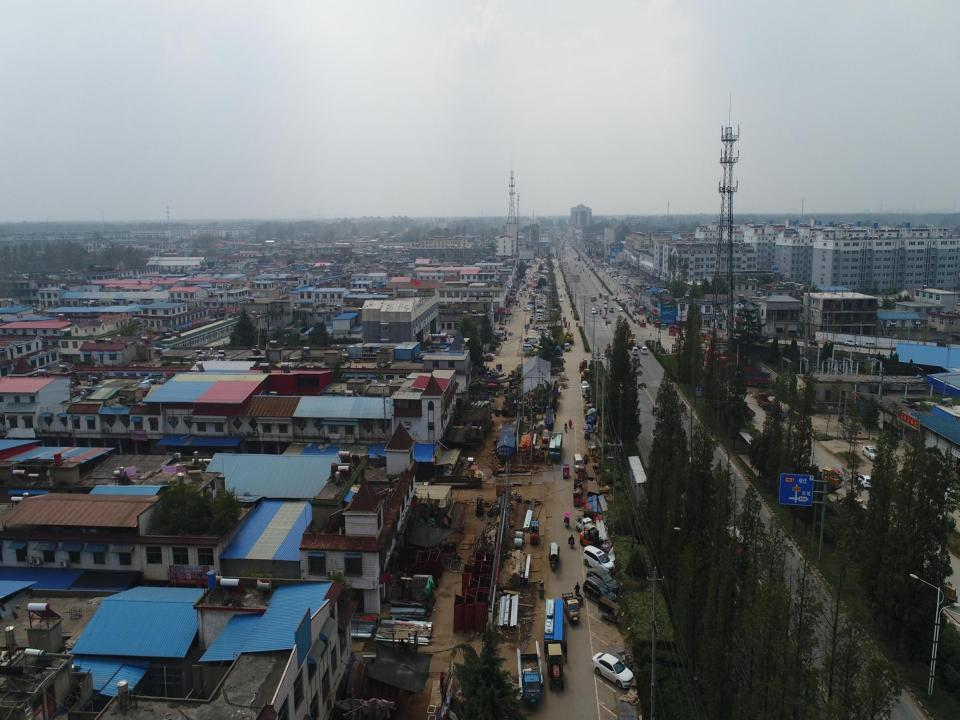bus: (603, 292, 611, 302)
car: (588, 649, 636, 689), (581, 575, 617, 607), (582, 544, 614, 574), (585, 566, 619, 594), (856, 472, 874, 490), (862, 444, 880, 462), (843, 339, 860, 349), (538, 327, 550, 336), (537, 334, 550, 342), (481, 354, 493, 362), (582, 386, 590, 398), (538, 329, 550, 337), (484, 353, 495, 361), (538, 331, 550, 338), (631, 346, 639, 356), (581, 380, 589, 389), (534, 316, 546, 322), (640, 346, 648, 355), (523, 306, 531, 312), (538, 313, 545, 319), (601, 312, 608, 318), (637, 341, 643, 348), (609, 306, 614, 313), (536, 313, 544, 317), (606, 318, 612, 323), (618, 306, 623, 312), (528, 304, 534, 308), (604, 300, 608, 305), (560, 297, 564, 301), (604, 304, 608, 308)
truck: (722, 363, 773, 389), (717, 354, 762, 382), (705, 348, 749, 372), (708, 350, 749, 374), (730, 369, 772, 388), (738, 398, 756, 423), (549, 429, 563, 461), (769, 400, 788, 422), (572, 516, 595, 534), (754, 390, 773, 410), (599, 292, 603, 298)
van: (572, 453, 584, 472), (541, 428, 551, 443), (861, 341, 876, 350), (522, 342, 536, 350), (527, 336, 538, 344), (523, 344, 534, 352), (590, 296, 598, 302), (529, 313, 534, 321), (591, 307, 596, 315), (518, 289, 522, 295)
